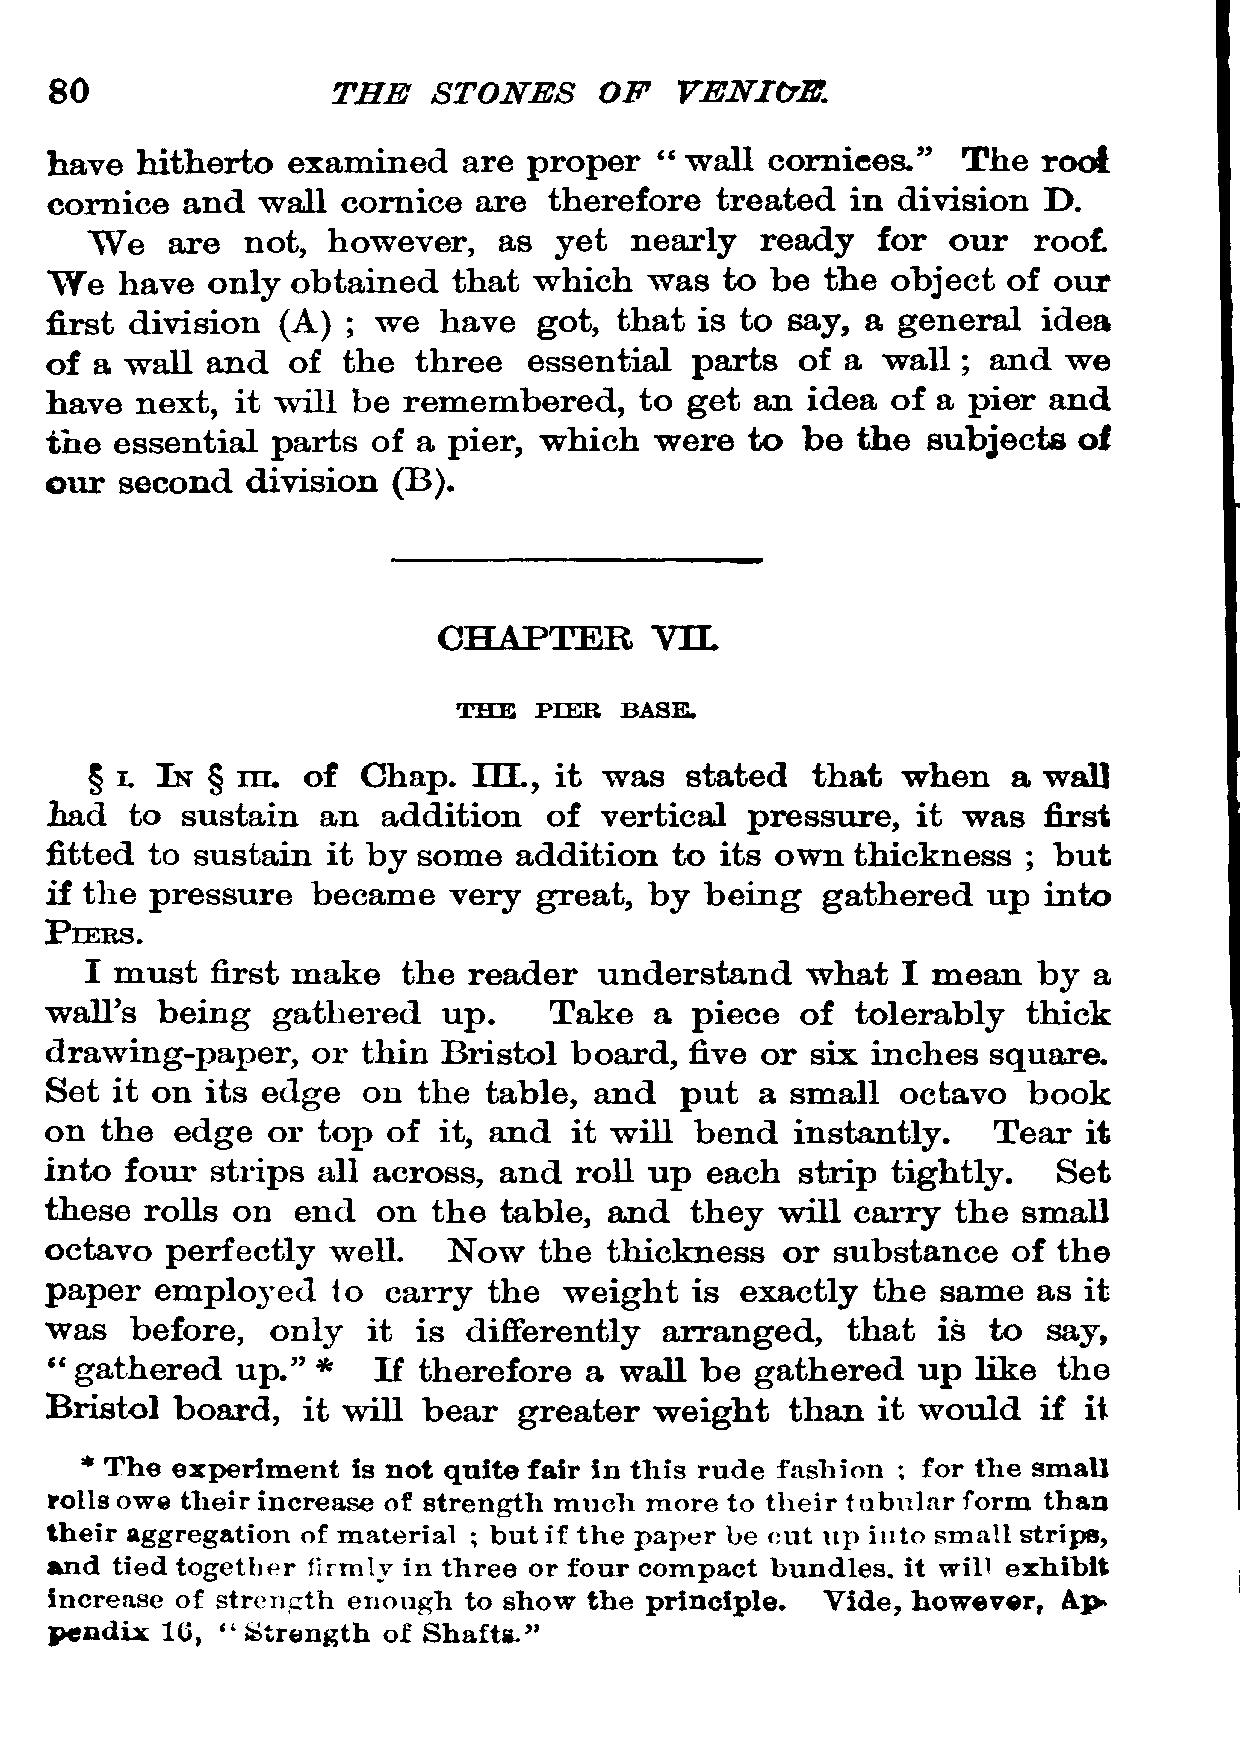chapter: (431, 617, 719, 723), (327, 75, 829, 107)
content: (42, 761, 1119, 1651), (42, 144, 1113, 502)
content_pagenumber: (46, 72, 90, 107)
